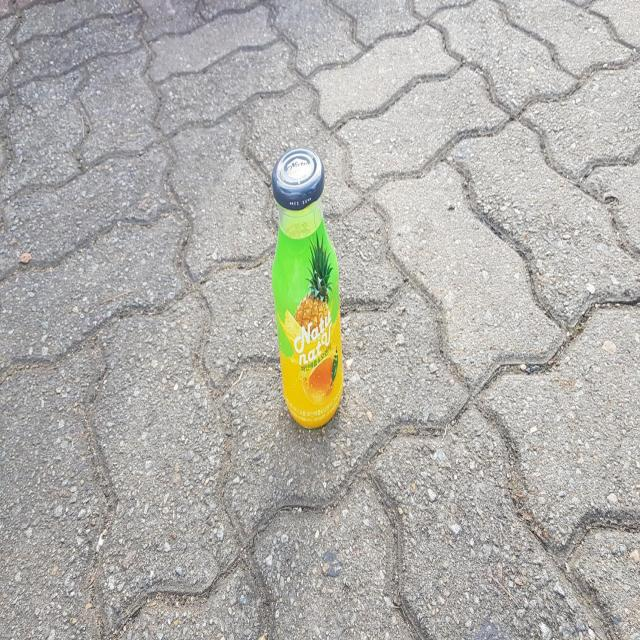glass: (272, 146, 344, 428)
